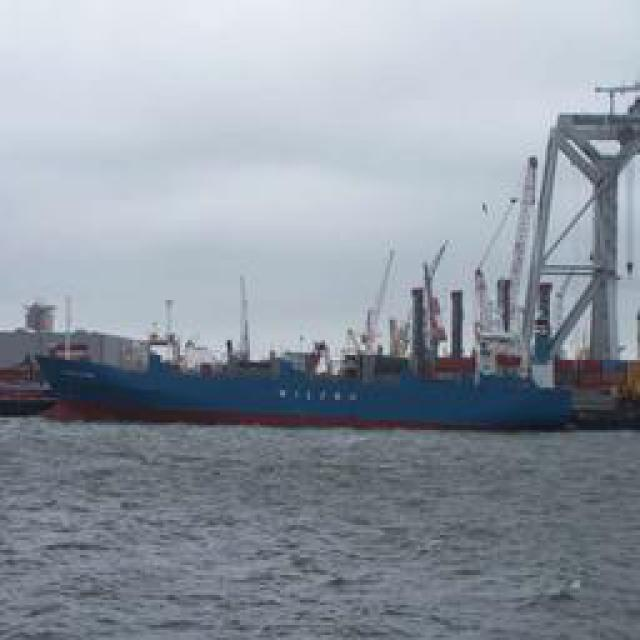Ship: (24, 246, 604, 434)
